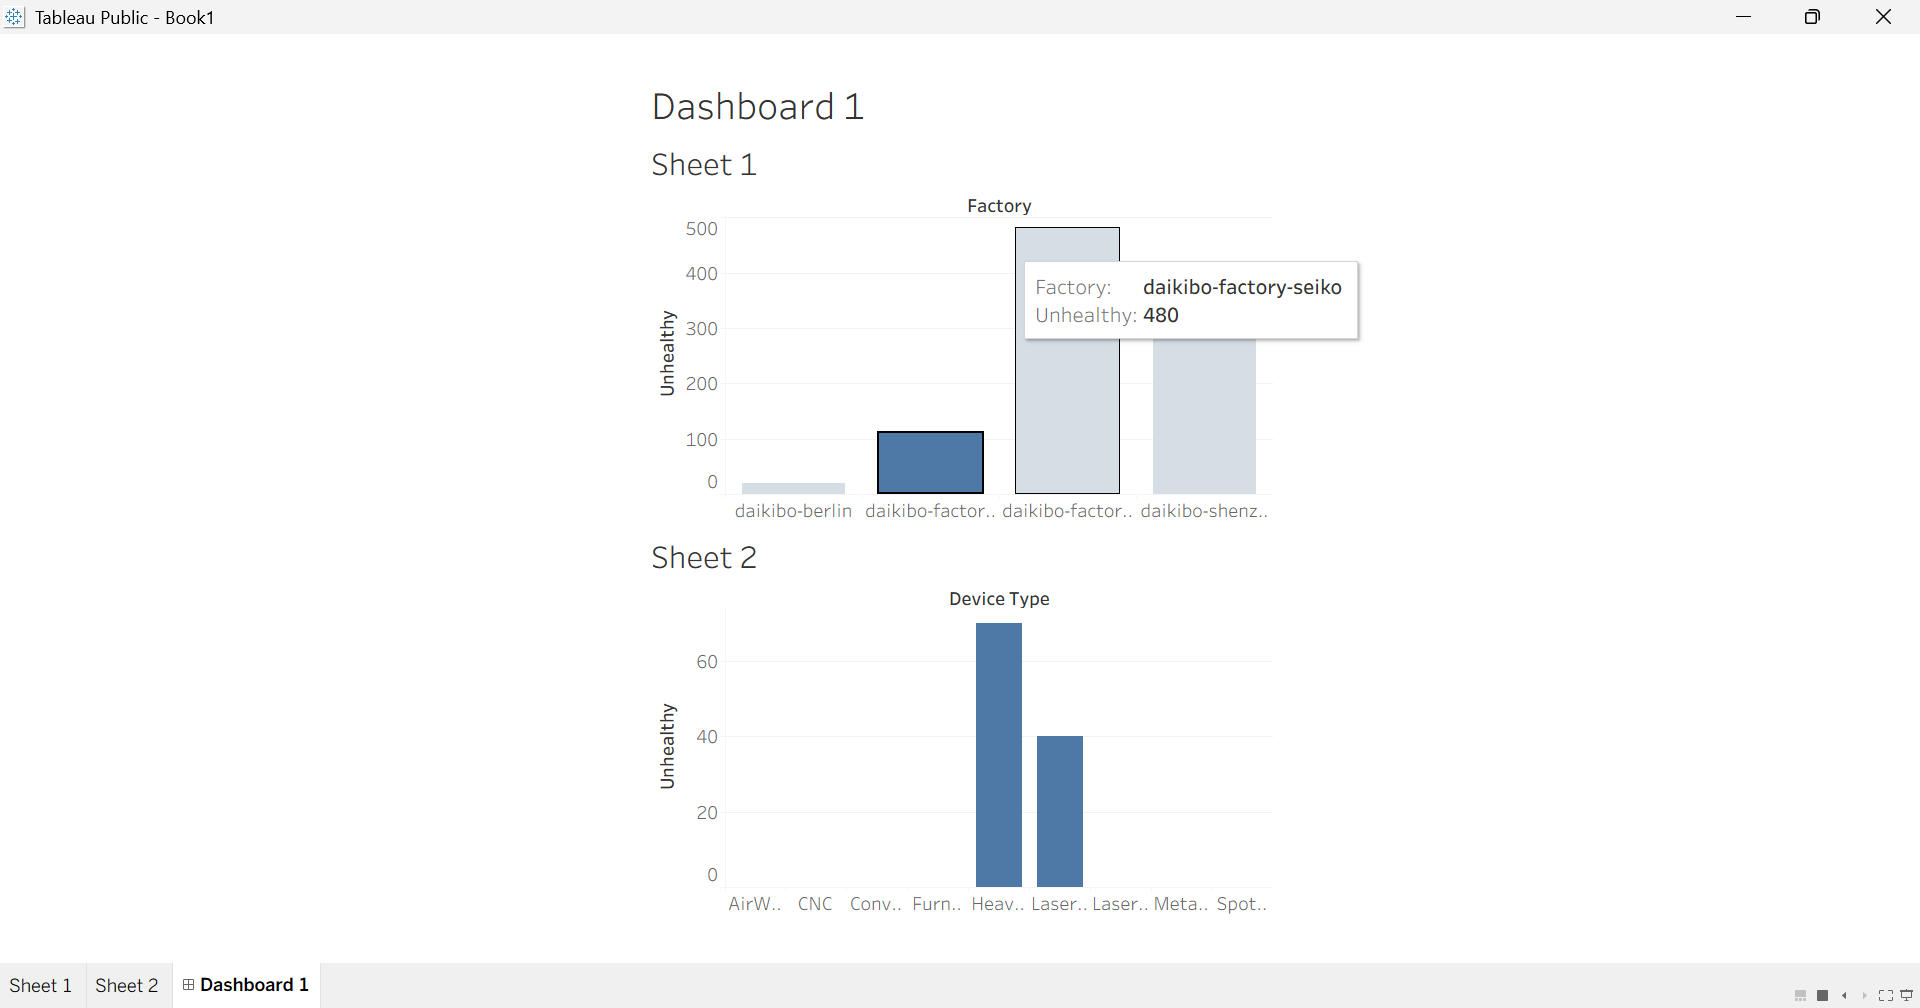

Layout of this report page (visuals, bound fields, positions):
{"tool":"tableau","page":{"name":"Dashboard 1","canvas":[650,860],"ordinal":0},"visuals":[{"type":"title","box":[8,8.5,634,61.8]},{"type":"worksheet","title":"Sheet 1","mark":"Automatic","rows":["Calculation_1499786454065152"],"cols":["factory"],"box":[8,70.3,634,390.6]},{"type":"worksheet","title":"Sheet 2","mark":"Automatic","rows":["Calculation_1499786454065152"],"cols":["deviceType"],"box":[8,460.9,634,390.6]}]}

Visuals, with their boxes in screenshot pixels (x1, y1, x2, y2):
title: 1015,0,1776,24
"Sheet 1" worksheet: 1015,24,1776,493
"Sheet 2" worksheet: 1015,493,1776,962
